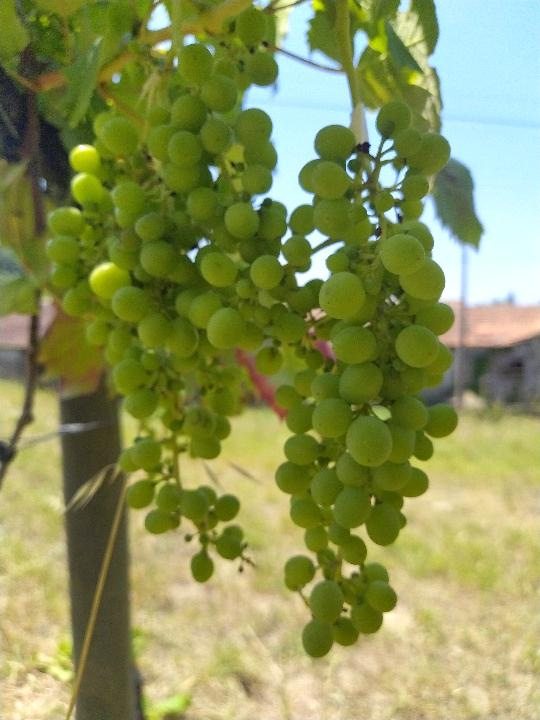grape: (43, 8, 286, 581), (274, 98, 459, 665)
